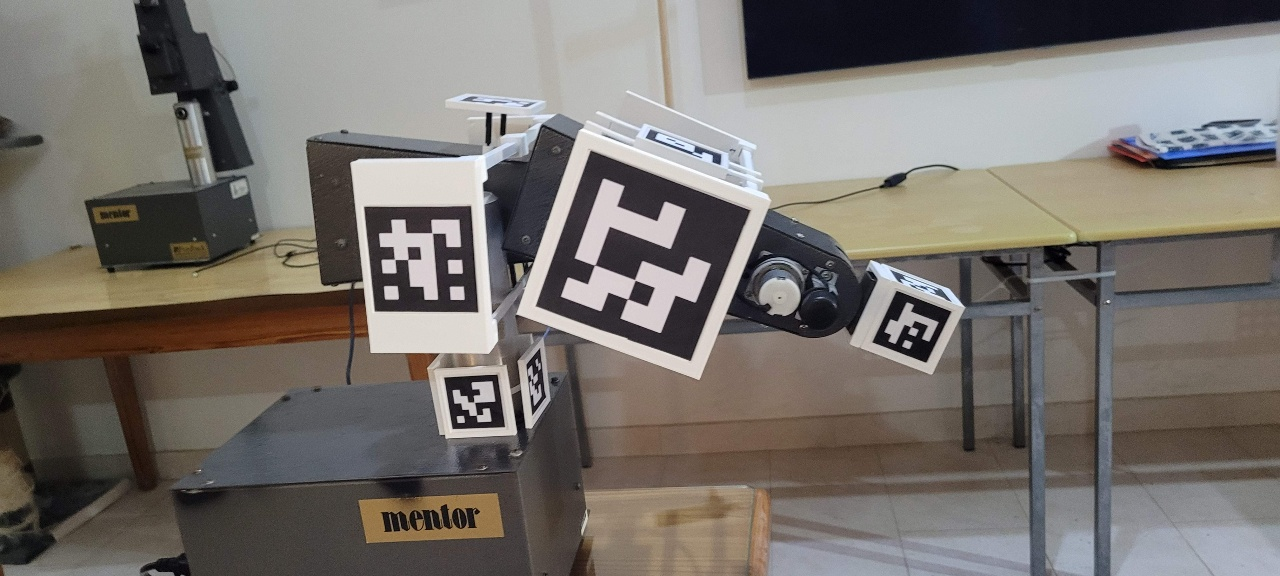Robot: (219, 60, 1017, 576)
